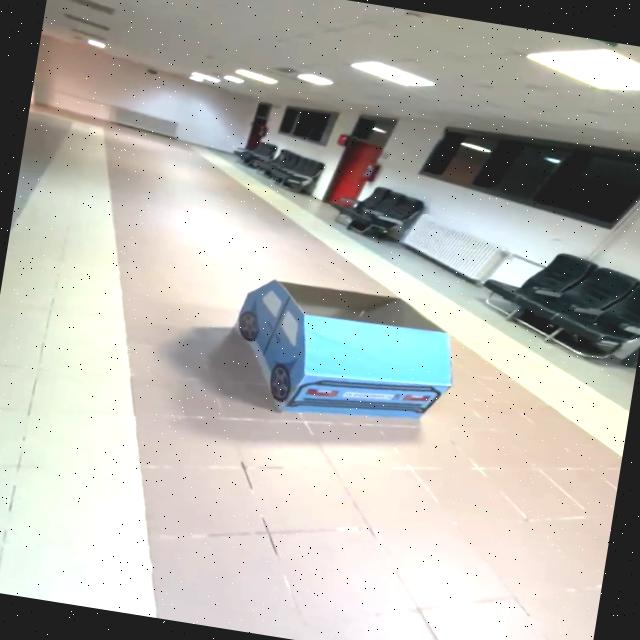blue_car: (193, 256, 487, 462)
